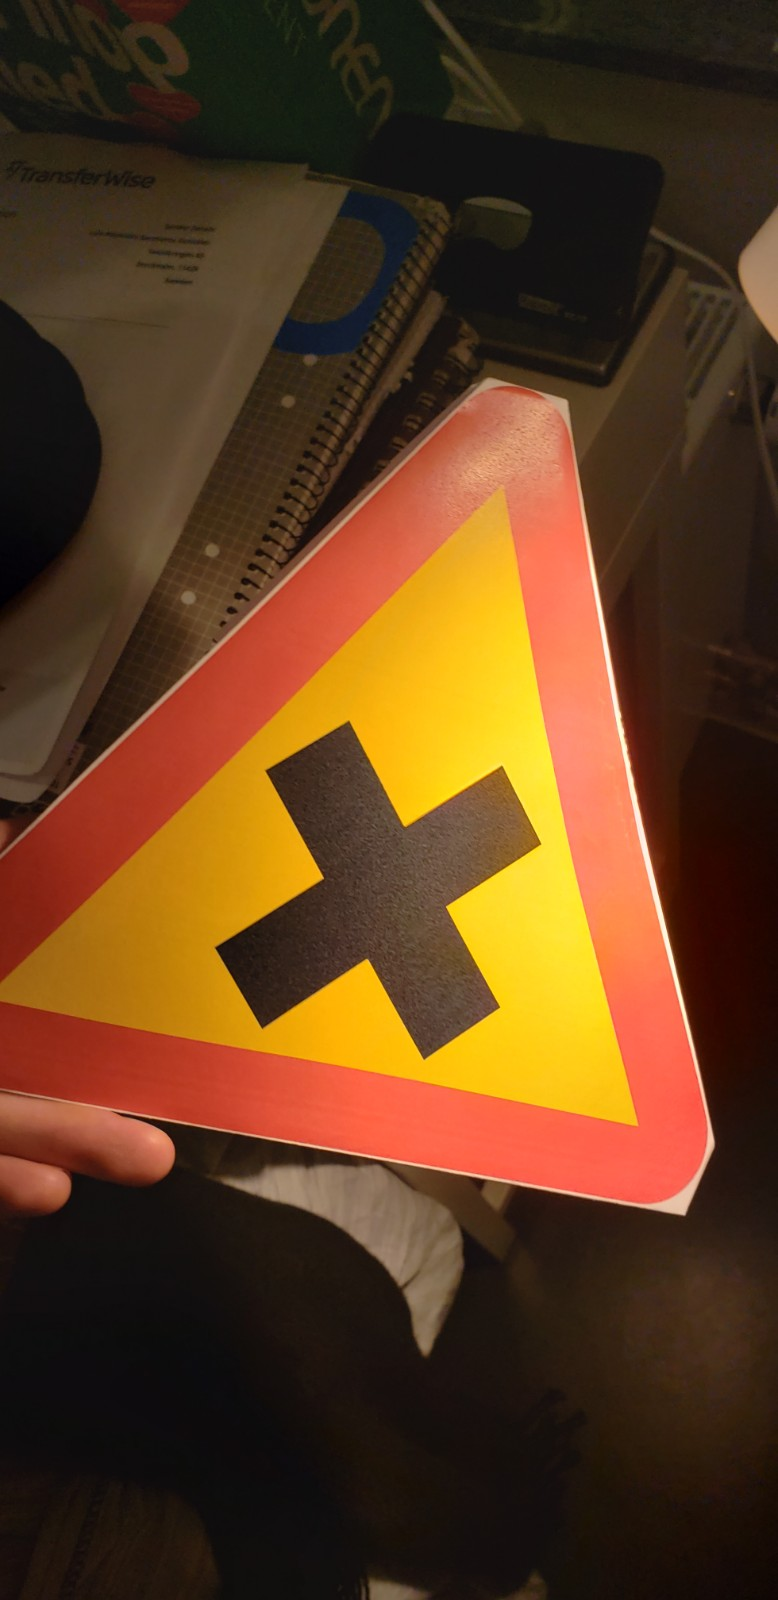junction: (13, 353, 751, 1248)
